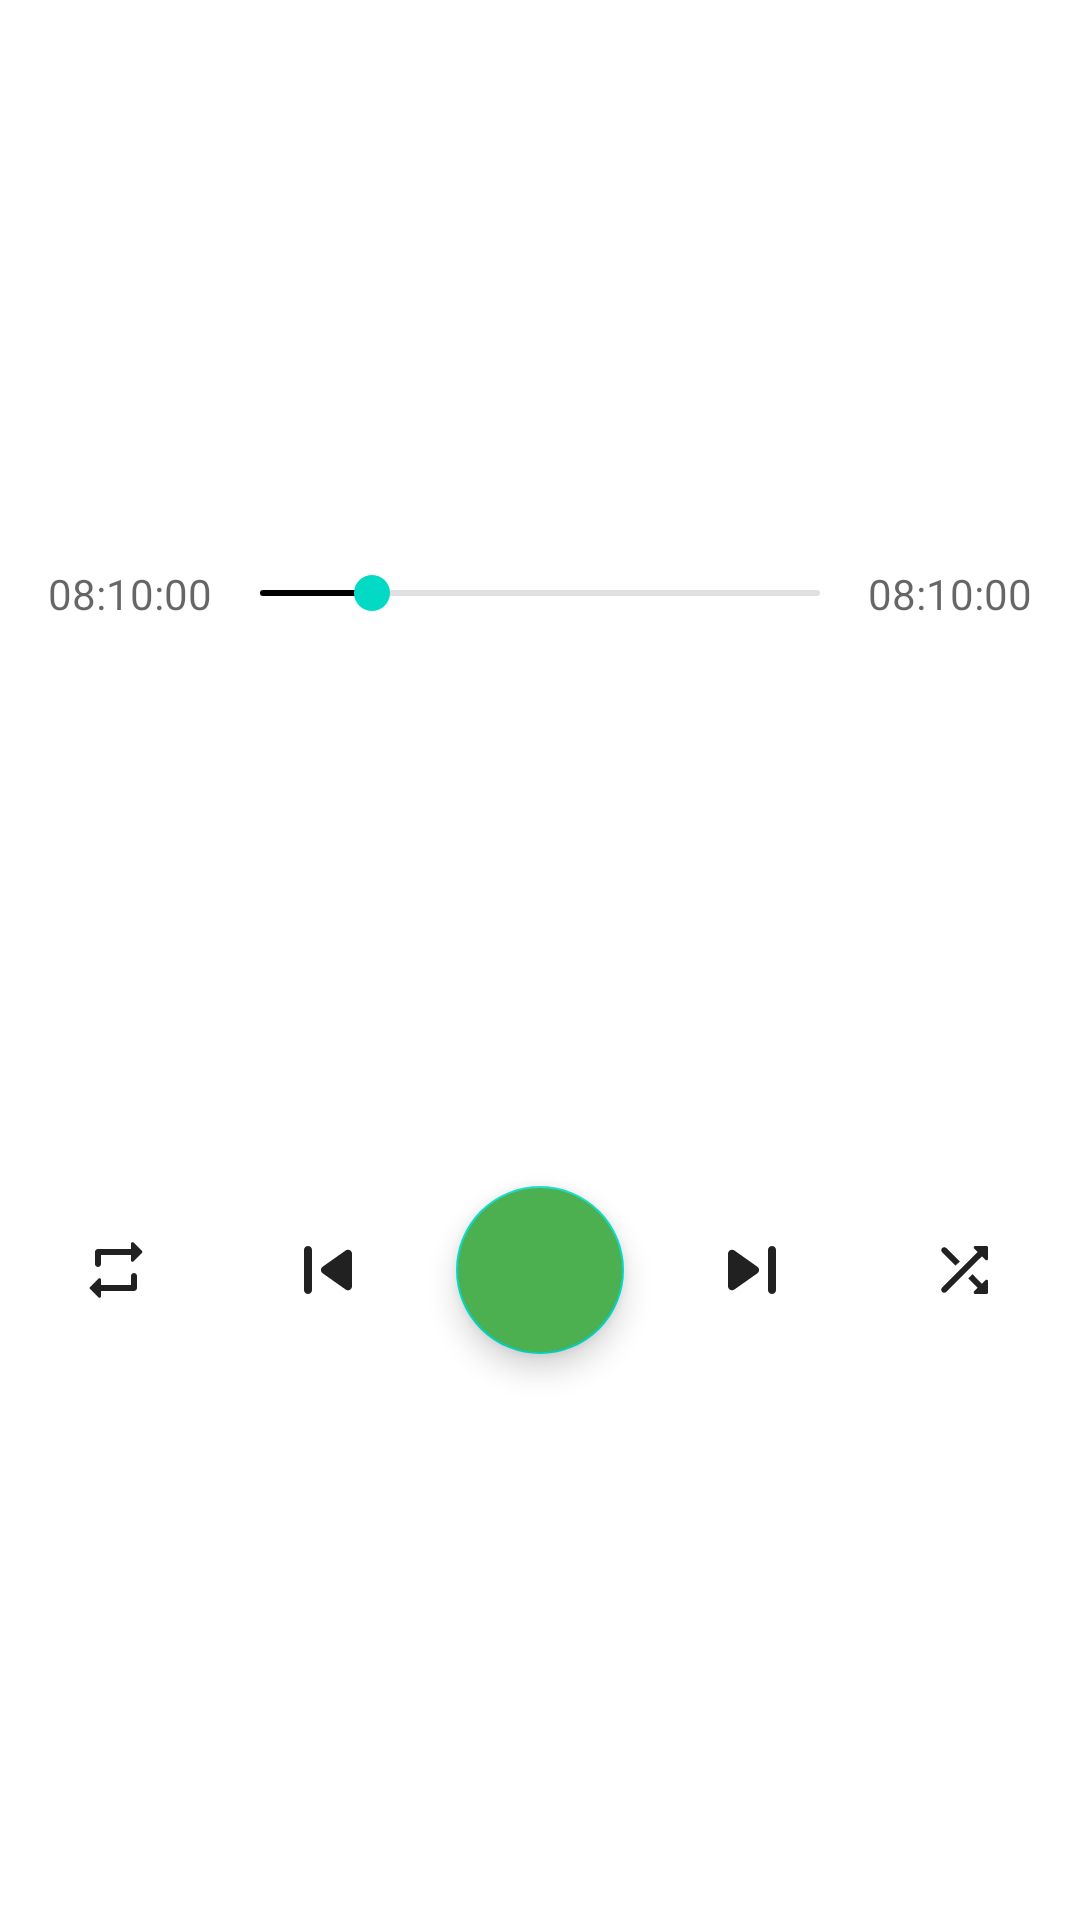

Screen size 1080x1920. Icon name, then its box in pixels as bbox=[x1, y1, x2, y2]:
repeat: bbox=[89, 1242, 143, 1298]
shuffle: bbox=[941, 1246, 988, 1294]
skip next: bbox=[728, 1246, 776, 1294]
skip previous: bbox=[304, 1246, 352, 1294]
